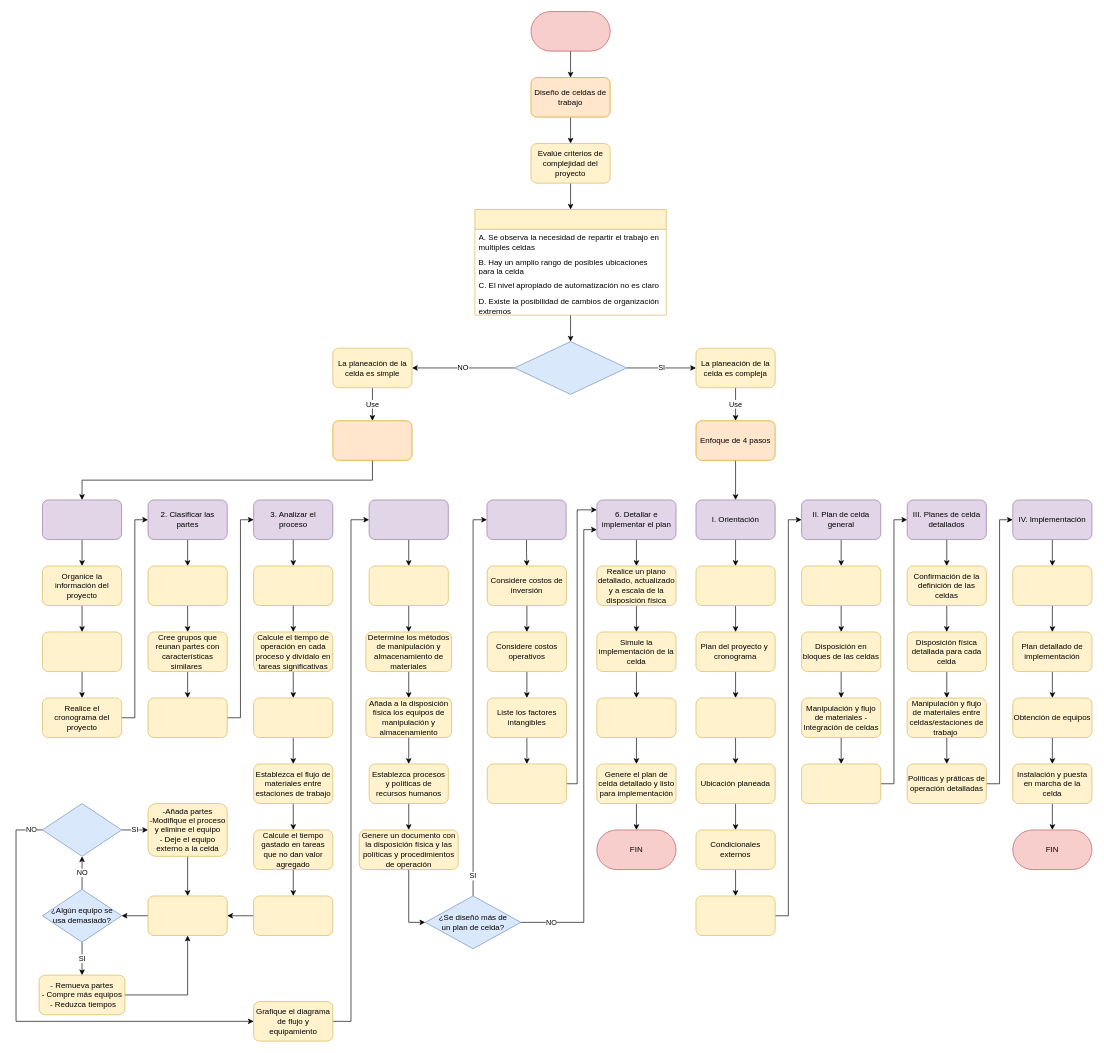
Image size: 1104x1053. Some labels were removed from this diagram. The shapes that lost their labels are listed below. From the top down, each one's box as (x1, y1, x2, y2) in pixels, then its label:
(530, 11, 610, 51): INICIO
(474, 209, 666, 315): Lista de criterios
(514, 341, 627, 394): Se cumple alguno de los criterios?
(332, 420, 412, 460): Enfoque de 6 pasos
(42, 499, 122, 540): 1. Orientar el proyecto
(368, 499, 448, 540): 4. Integrar en planes de celda
(486, 499, 566, 540): 5. Seleccione el mejor plan
(147, 565, 227, 606): Liste las características físicas de cada parte
(253, 565, 333, 606): Liste los procesos o rutinas para cada grupo de partes
(368, 565, 448, 606): Bosqueje la disposición física de la celda
(695, 565, 775, 606): Objetivos
(801, 565, 881, 606): Definición de las celdas: partes, procesos y equipos
(1012, 565, 1092, 606): Aprobación e instauración del proyecto
(42, 631, 122, 672): Haga una lista de problemas
(147, 697, 227, 738): Haga una lista de todas las clases o grupos de partes que se van a fabricar
(253, 697, 333, 738): Calcular el número de operarios y estaciones de trabajo
(596, 697, 676, 738): Realice ajustes de seguridad, control gestión de calidad y mantenimiento
(695, 697, 775, 738): Area operacional
(487, 763, 566, 804): Use el método de pesos ponderados para escoger el mejor plan de celda
(801, 763, 881, 804): Definición de disposición física y políticas de operación
(42, 803, 122, 856): ¿Algún equipo se usa poco?
(147, 895, 227, 936): Realice el balance de linea
(253, 895, 333, 936): Grafique la tabla de proceso de operación
(695, 895, 775, 936): Alcance del proyecto
